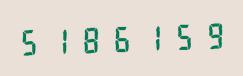eight: (77, 21, 106, 56)
five: (17, 23, 46, 58), (167, 18, 196, 53)
nine: (197, 17, 226, 52)
one: (47, 22, 76, 57), (137, 19, 166, 54)
six: (107, 20, 136, 55)
